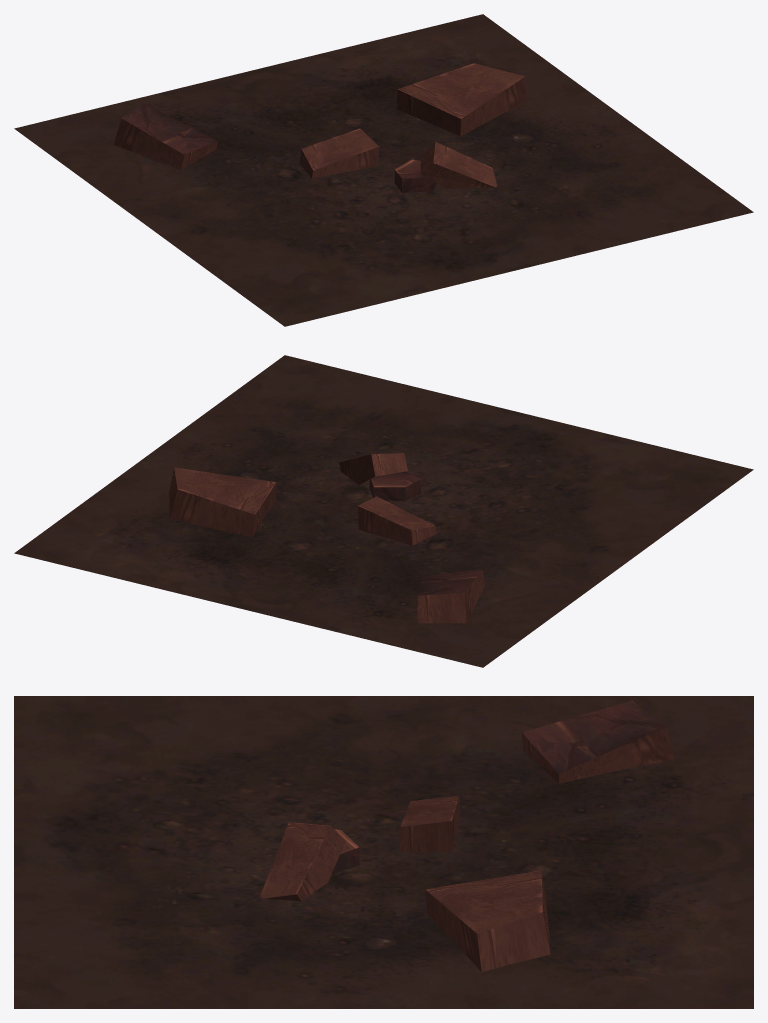
Rendered from lava_rubble_05.fbx.
3 views of the same model, one above another, from view 1: azimuth 30°, elevation 25°; view 2: azimuth 150°, elevation 25°; view 3: azimuth 270°, elevation 25° (orthographic). The views are drawn at different scales.
Visible parts, largest first — view 1: obj1.027; view 2: obj1.027; view 3: obj1.027.
Boxes of the visible parts, box(x1,y1,x2,y2) form: obj1.027: box(14, 14, 753, 326); obj1.027: box(14, 355, 753, 667); obj1.027: box(14, 696, 753, 1008).
Size of the model in its own units: 4 by 0.4565 by 4.
